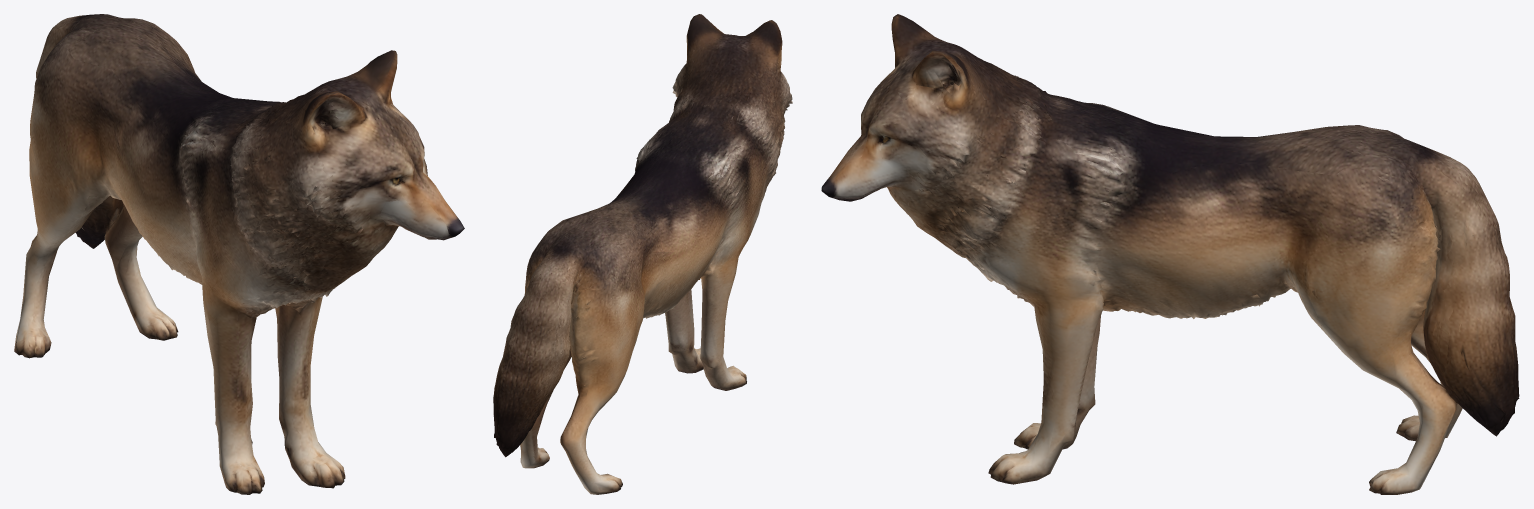
Rendered from Wolf_clean.glb.
3 renders of one model, left to right at view 1: azimuth 30°, elevation 25°; view 2: azimuth 150°, elevation 25°; view 3: azimuth 270°, elevation 25°, orthographic. The views are drawn at different scales.
Parts seen in each view (by area): view 1: Wolf; view 2: Wolf; view 3: Wolf.
Part boxes in pixels (x1,y1,x2,y2): Wolf: [14, 14, 464, 494]; Wolf: [493, 14, 792, 494]; Wolf: [821, 14, 1519, 494].
Bounding box in the file's own units: 0.4827 × 1.32 × 1.9.
1 material, 1 textured.
